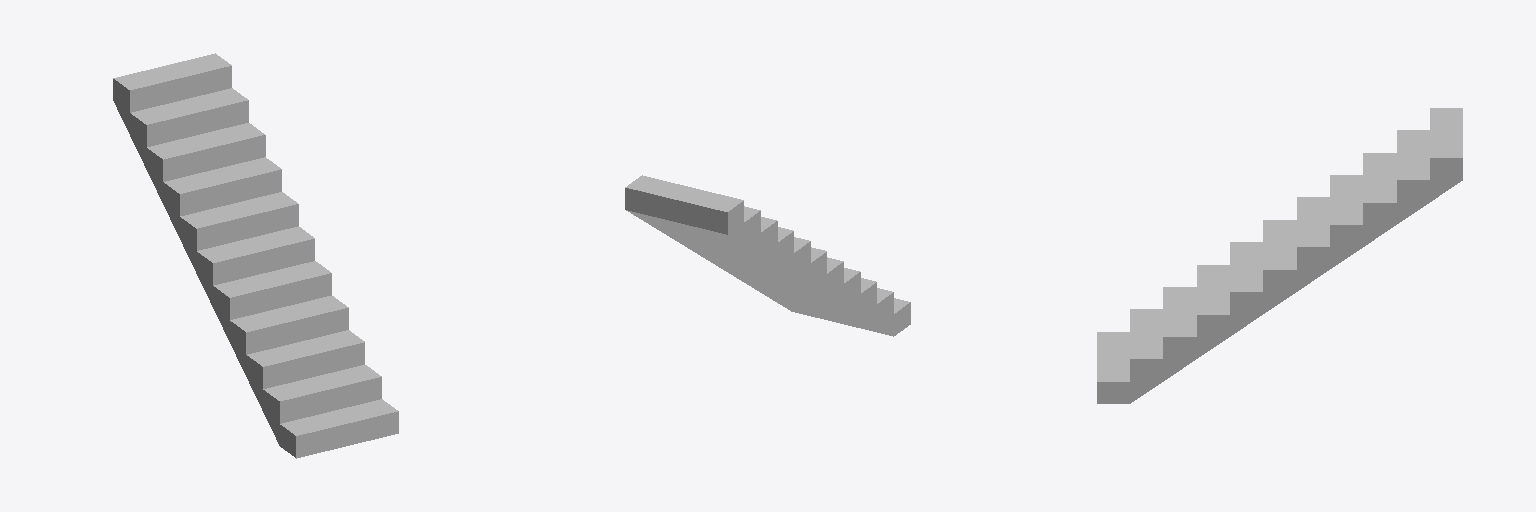
The model's file is stairs.obj.
3 views of the same model, side by side, from view 1: azimuth 30°, elevation 25°; view 2: azimuth 150°, elevation 25°; view 3: azimuth 270°, elevation 25° (orthographic).
Visible parts, largest first — view 1: Layer0_001; view 2: Layer0_001; view 3: Layer0_001.
Boxes of the visible parts, x1=… form: Layer0_001: x1=113, y1=53, x2=398, y2=458; Layer0_001: x1=625, y1=175, x2=910, y2=336; Layer0_001: x1=1097, y1=108, x2=1462, y2=403.
Size of the model in its own units: 21.11 by 48.55 by 65.48.